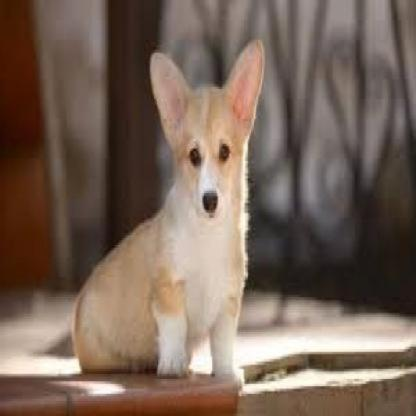dog: (70, 38, 266, 379)
